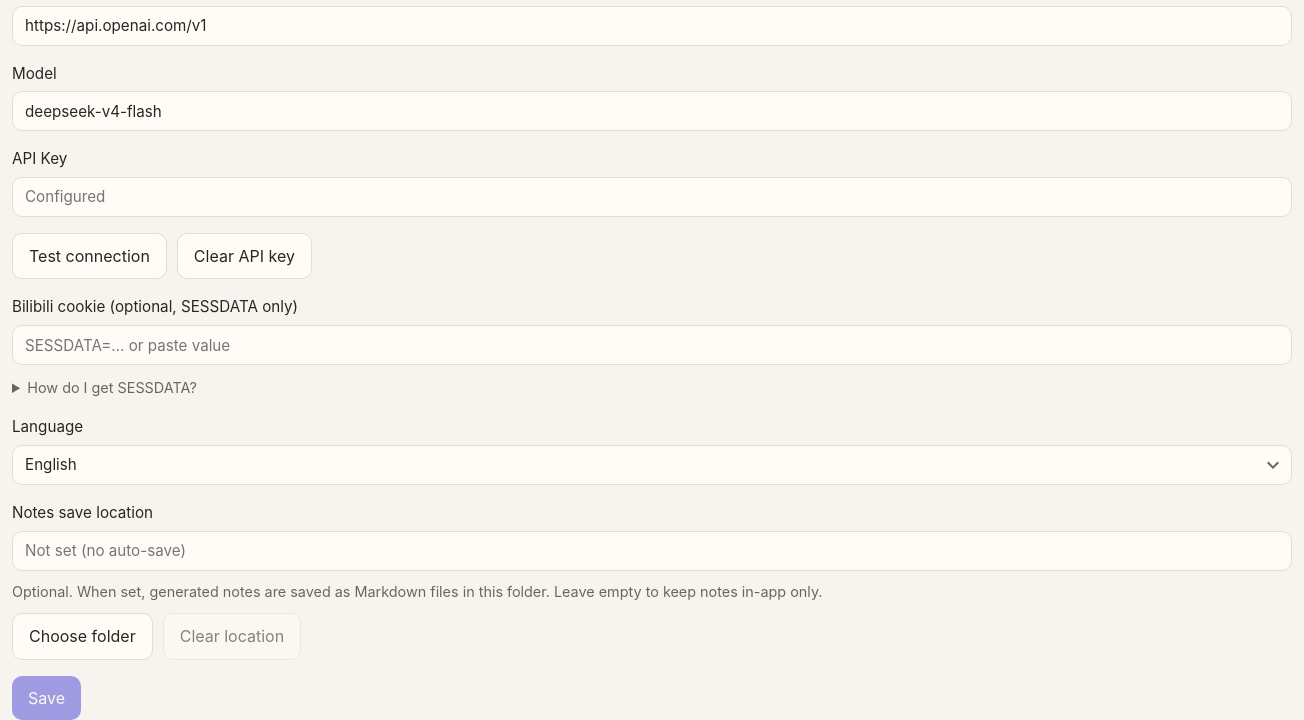
Test: ConfigForm › re-disables Save after a successful settings save
(page scrolled)
Check: the button "Save" is disabled, box [12,676,81,719]
Type "gpt-4o" into the field labelled "Model" at [652, 111], box [12,91,1292,131]
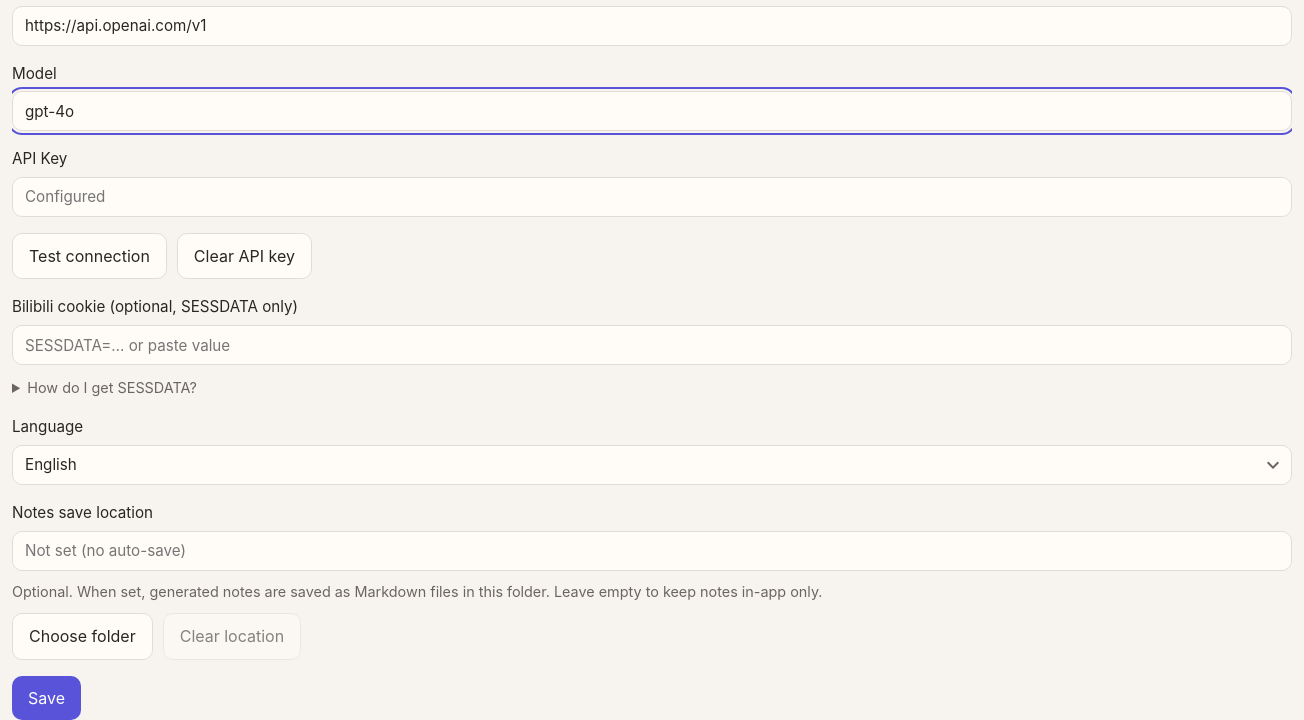
Check: the button "Save" is enabled
Click the button "Save" at [46, 698], box [12,676,81,719]
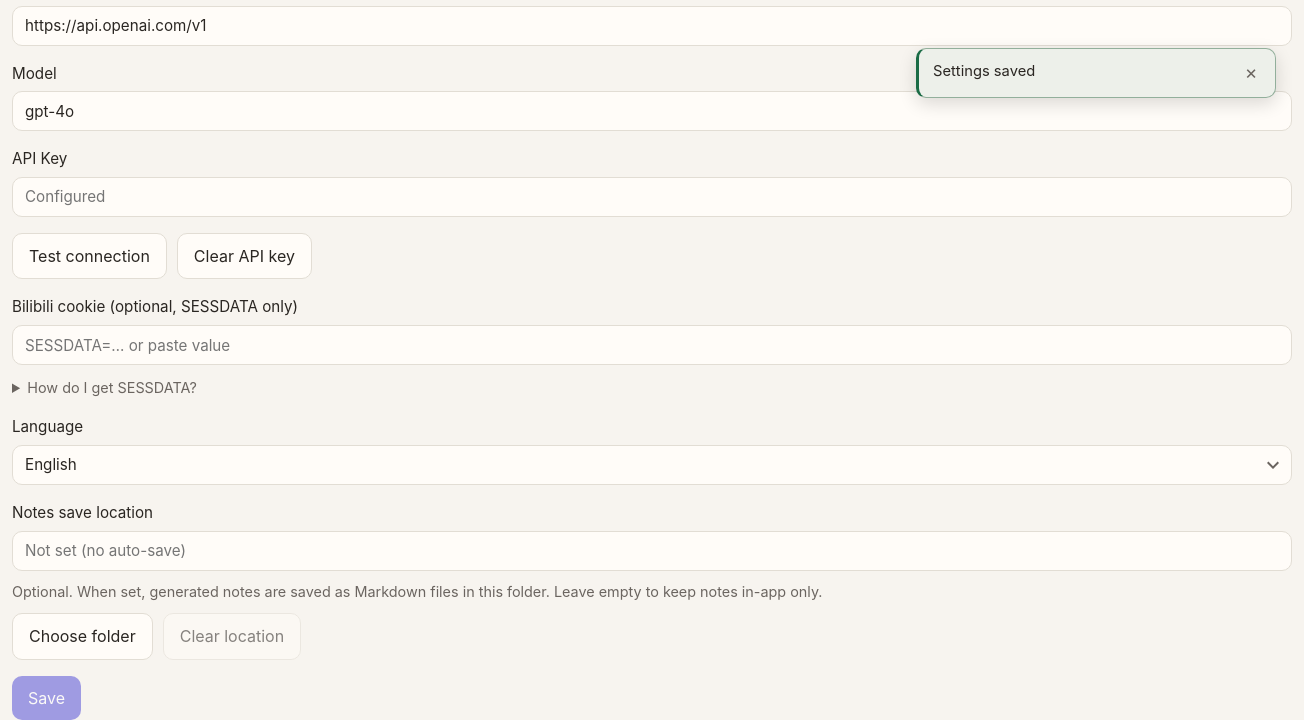
Check: the text "Settings saved" is shown, box [933,62,1035,80]
Check: the button "Save" is disabled, box [12,676,81,719]
